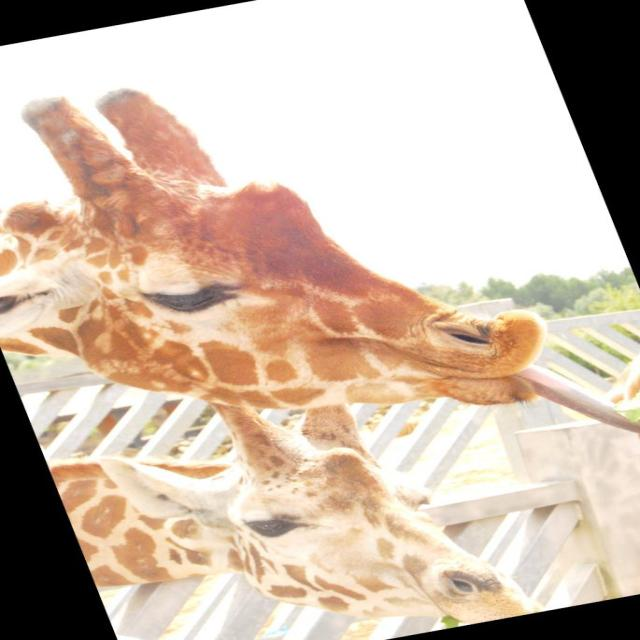Giraffe: (0, 81, 553, 425)
